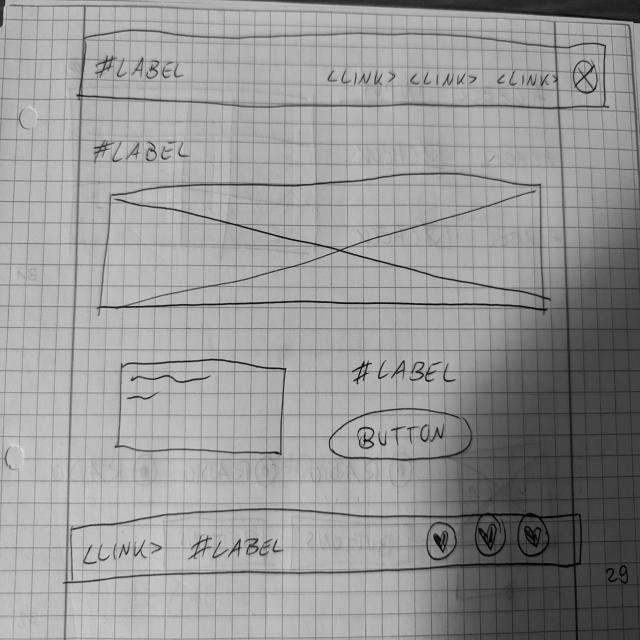button: (328, 407, 476, 468)
container: (78, 25, 610, 113), (67, 507, 588, 589)
icon-button: (474, 514, 510, 561), (424, 520, 462, 564), (516, 514, 552, 559)
image: (98, 169, 550, 315), (571, 58, 601, 97)
label: (349, 357, 461, 389), (92, 135, 192, 170), (92, 52, 188, 88), (186, 532, 286, 565)
link: (83, 537, 165, 570), (408, 68, 481, 92), (328, 65, 399, 89), (494, 68, 561, 91)
textarea: (117, 358, 290, 461)
